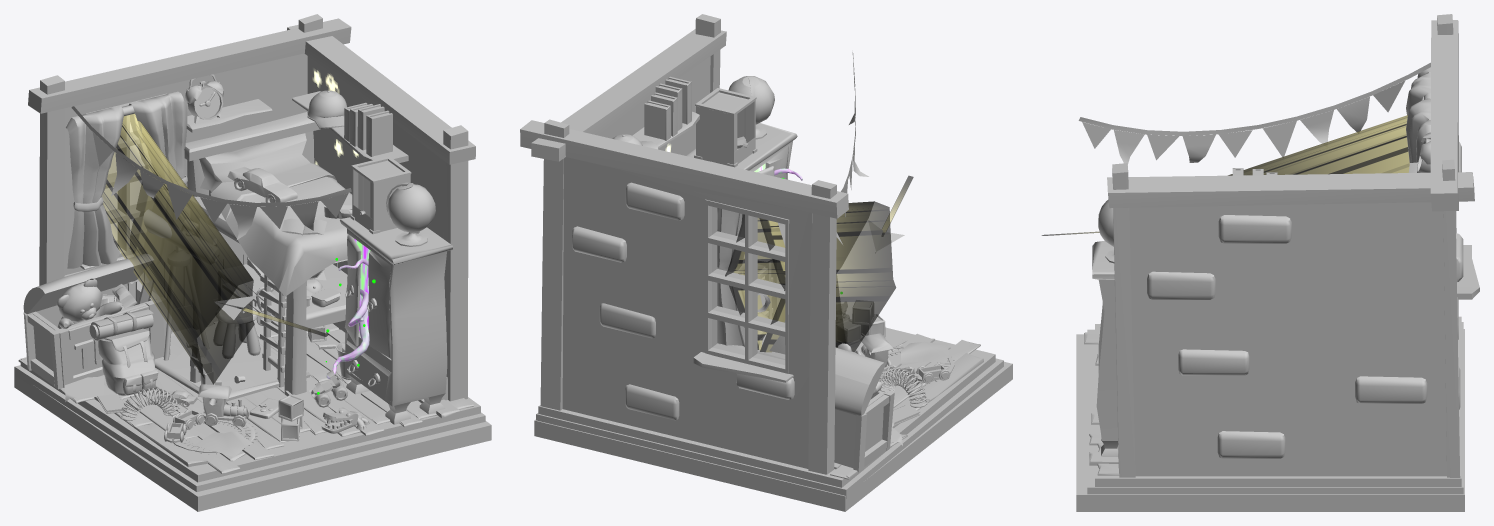
3 renders of one model, left to right at view 1: azimuth 30°, elevation 25°; view 2: azimuth 150°, elevation 25°; view 3: azimuth 270°, elevation 25°, orthographic. The views are drawn at different scales.
Visible parts, largest first — view 1: pHelix2; view 2: pHelix2; view 3: pHelix2.
Part boxes in pixels (left/top/right/bottom): pHelix2: left=14, top=14, right=491, bottom=511; pHelix2: left=520, top=14, right=1012, bottom=511; pHelix2: left=1042, top=14, right=1479, bottom=511.
Bounding box in the file's own units: 3.39 × 3.04 × 3.52.
